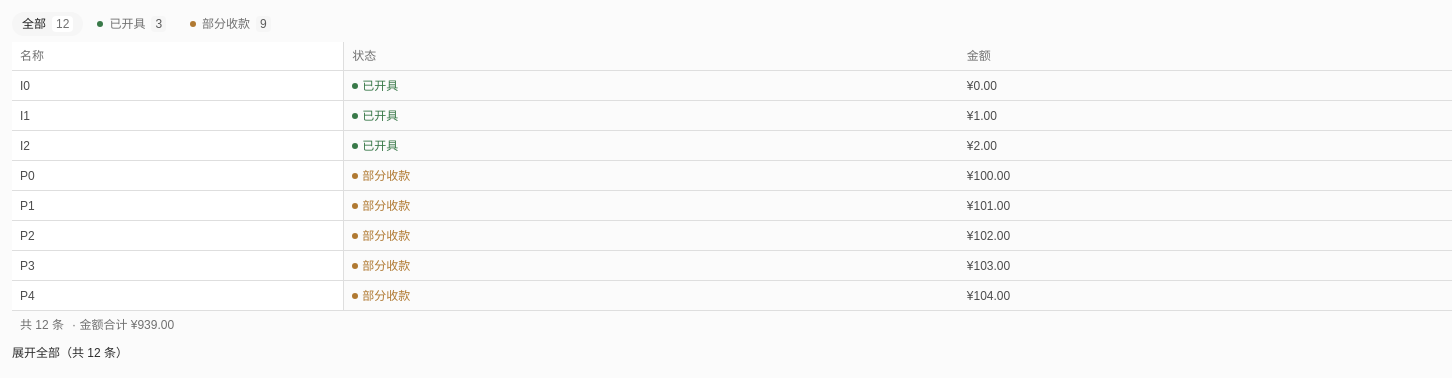
状态筛选芯片（A2，真实过滤） › 展开按钮文案用筛选后计数（筛选态与表尾一致）；筛选后 ≤8 条隐藏
expect the button "展开全部（共 12 条）" is shown: met, box top-left (12, 345), bottom-right (128, 361)
expect the text "共 12 条" is shown: met, box top-left (20, 317), bottom-right (64, 333)
Click the button "部分收款 9" at (230, 24), box top-left (180, 12), bottom-right (281, 36)
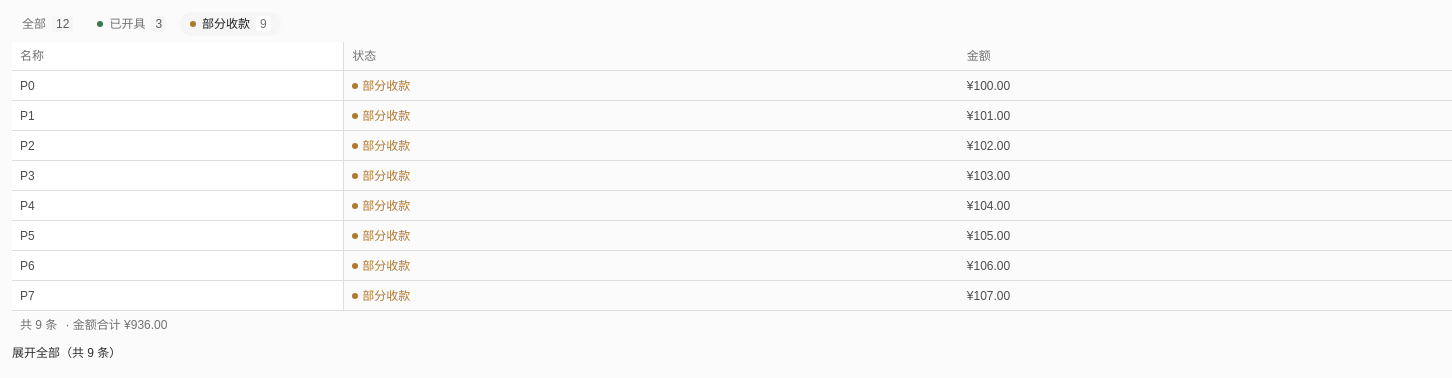
expect the button "展开全部（共 9 条）" is shown: met, box top-left (12, 345), bottom-right (121, 361)
expect the text "共 9 条" is shown: met, box top-left (20, 317), bottom-right (57, 333)
Click the button "全部 12" at (48, 24), box top-left (12, 12), bottom-right (83, 36)
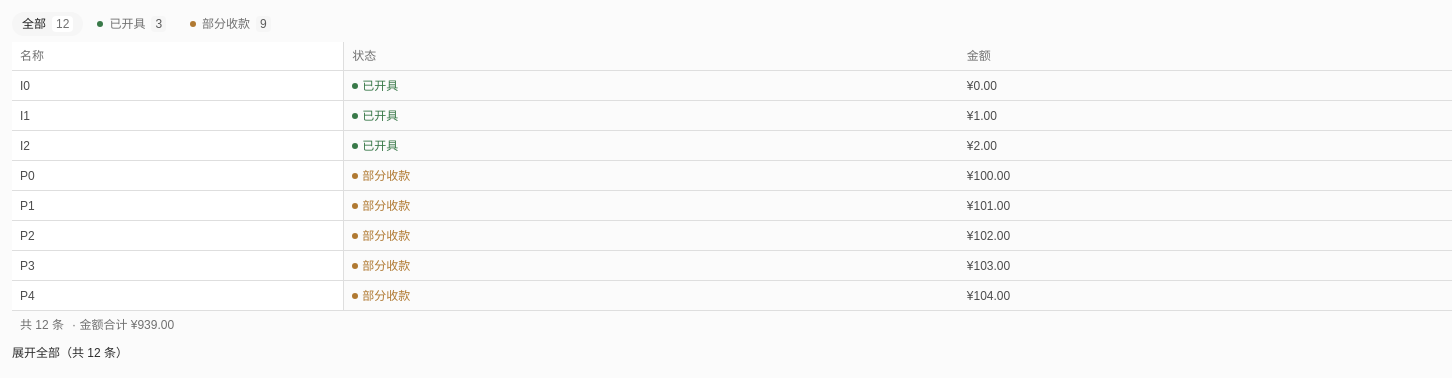
Click the button "已开具 3" at (132, 24), box top-left (87, 12), bottom-right (176, 36)
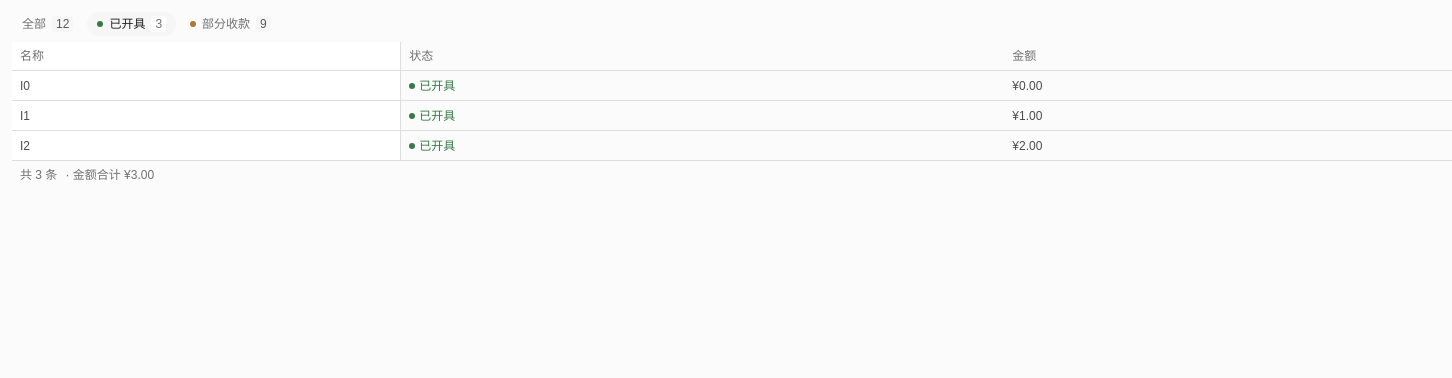
expect the button "展开全部" is gone: met
expect the text "共 3 条" is shown: met, box top-left (20, 167), bottom-right (57, 183)
